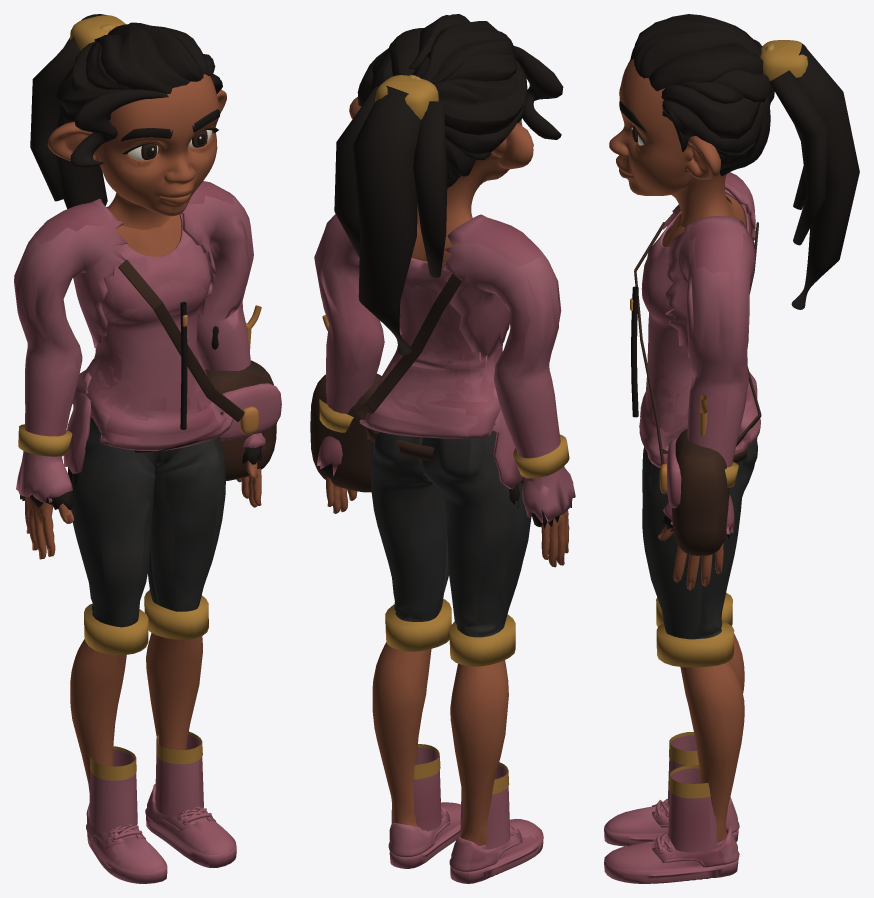
Rendered from bina-v1.glb.
3 renders of one model, left to right at view 1: azimuth 30°, elevation 25°; view 2: azimuth 150°, elevation 25°; view 3: azimuth 270°, elevation 25°, orthographic. The views are drawn at different scales.
Parts seen in each view (by area): view 1: BinaV1.StandingResident; view 2: BinaV1.StandingResident; view 3: BinaV1.StandingResident.
Part boxes in pixels (left/top/right/bottom): BinaV1.StandingResident: left=14, top=14, right=281, bottom=883; BinaV1.StandingResident: left=310, top=14, right=575, bottom=883; BinaV1.StandingResident: left=604, top=14, right=859, bottom=883.
Size of the model in its own units: 0.4636 by 1.46 by 0.4069.
9 materials, 4 textured.
